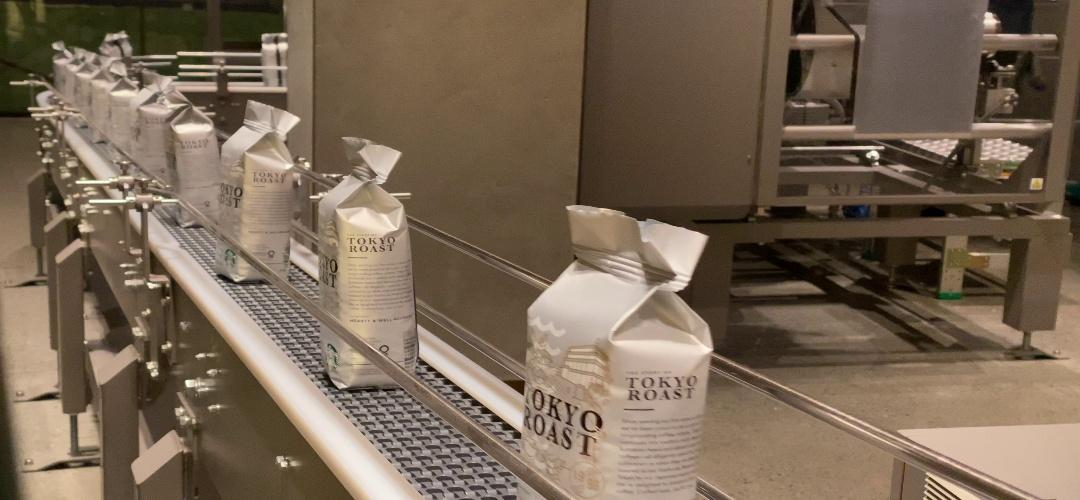conveyor: (519, 300, 713, 489), (318, 182, 414, 322), (215, 136, 290, 249), (166, 122, 216, 212)
